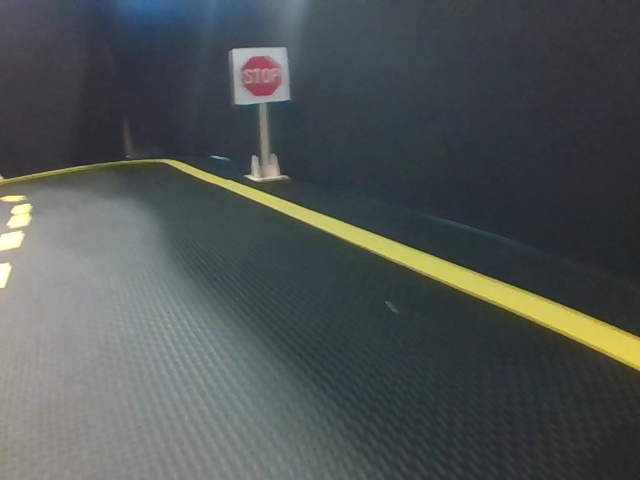stop: (231, 47, 291, 99)
